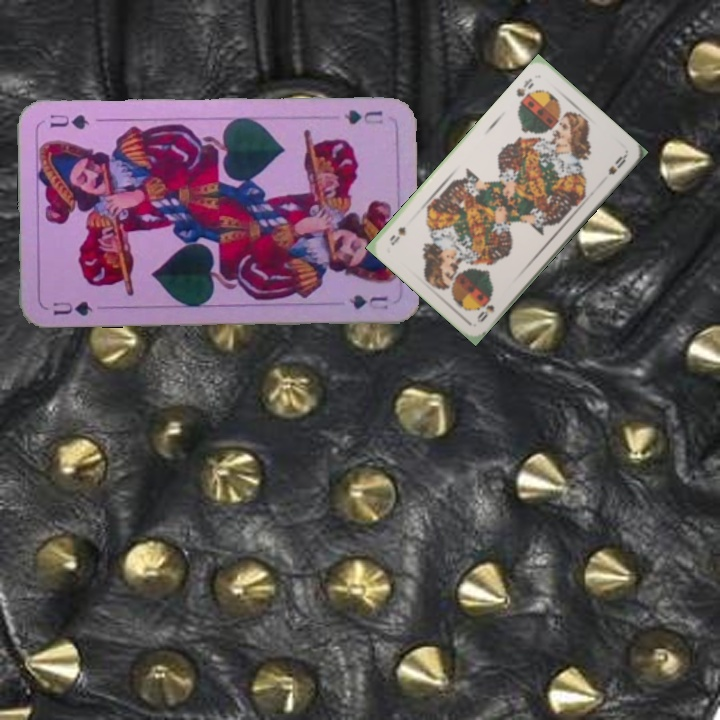GU: (48, 297, 96, 319), (339, 105, 386, 127)
SO: (512, 74, 536, 106), (473, 295, 497, 325)
